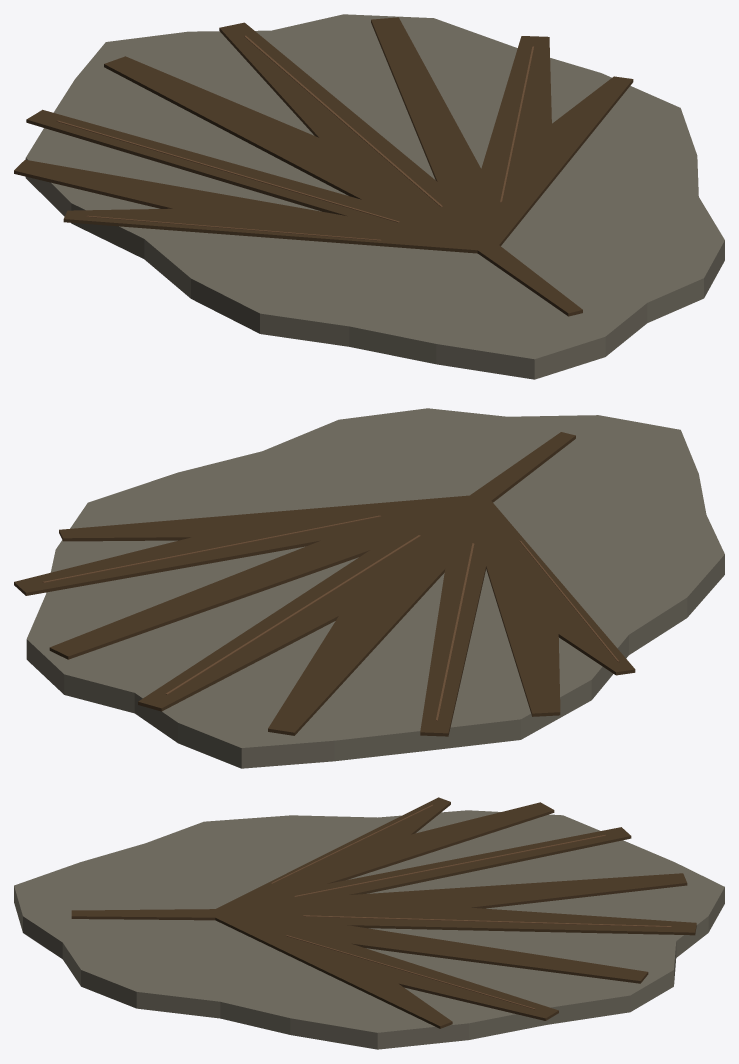
3 views of the same model, one above another, from view 1: azimuth 30°, elevation 25°; view 2: azimuth 150°, elevation 25°; view 3: azimuth 270°, elevation 25° (orthographic). The views are drawn at different scales.
Visible parts, largest first — view 1: thin_irregular_original_shale_support, one_flat_deeply_divided_Baiera_leaf, subordinate_parallel_relief; view 2: thin_irregular_original_shale_support, one_flat_deeply_divided_Baiera_leaf, subordinate_parallel_relief; view 3: thin_irregular_original_shale_support, one_flat_deeply_divided_Baiera_leaf, subordinate_parallel_relief.
Boxes of the visible parts, x1,y1,x2,y2 form: thin_irregular_original_shale_support: (25, 14, 724, 379); one_flat_deeply_divided_Baiera_leaf: (14, 17, 633, 316); subordinate_parallel_relief: (56, 35, 534, 240); thin_irregular_original_shale_support: (26, 408, 724, 768); one_flat_deeply_divided_Baiera_leaf: (14, 432, 635, 736); subordinate_parallel_relief: (42, 515, 619, 720); thin_irregular_original_shale_support: (14, 810, 724, 1049); one_flat_deeply_divided_Baiera_leaf: (71, 797, 696, 1028); subordinate_parallel_relief: (271, 804, 671, 1009).
Size of the model in its own units: 0.1189 by 0.00476 by 0.1535.
